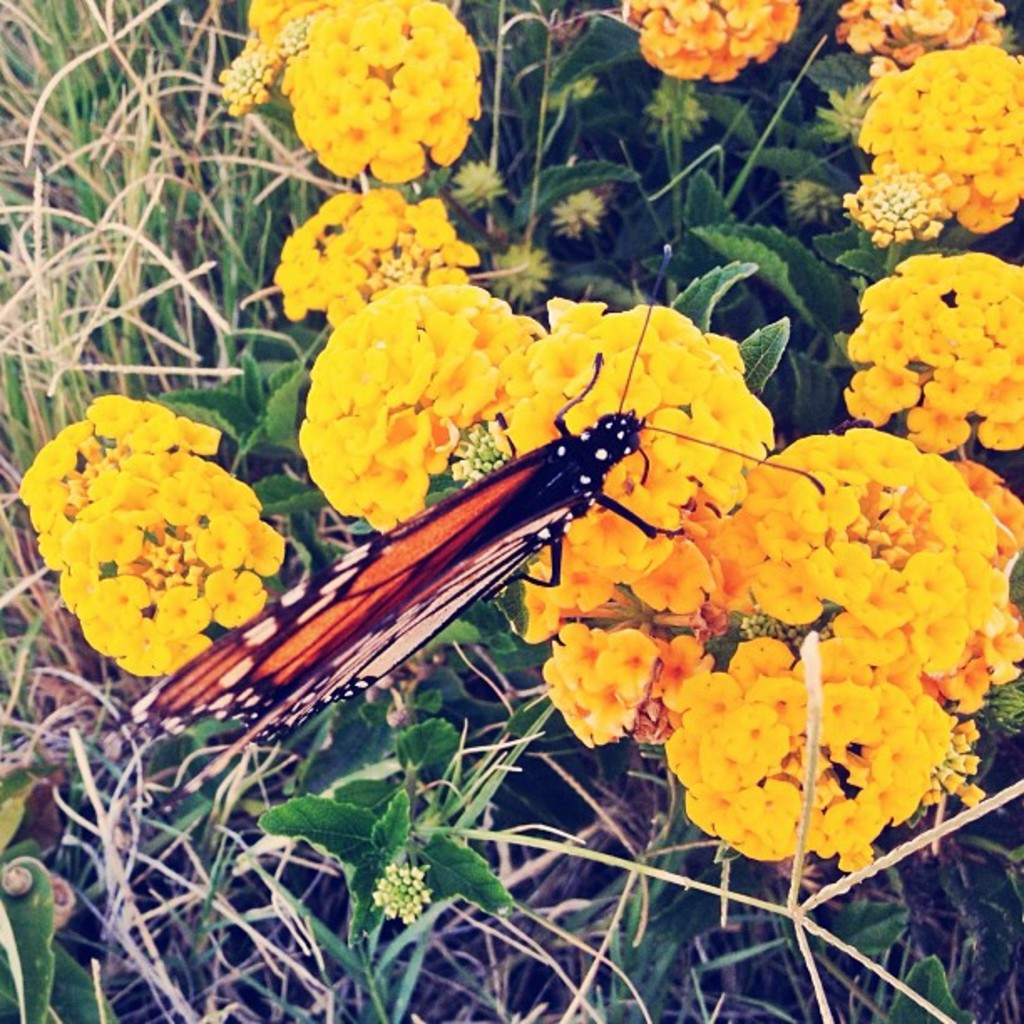Butterfly: (135, 348, 758, 759)
